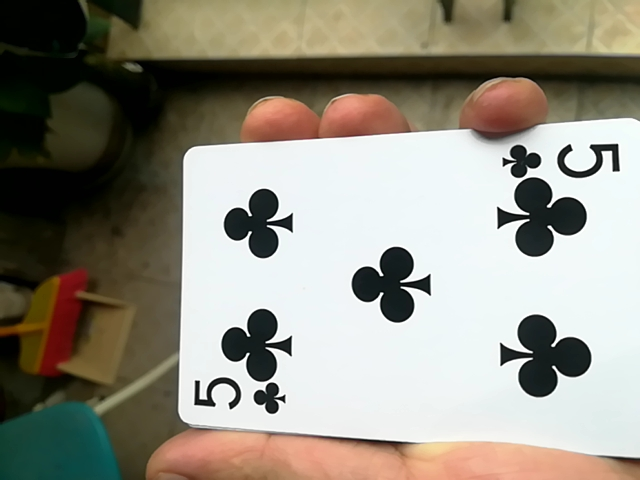mh 5: (162, 122, 633, 458)
